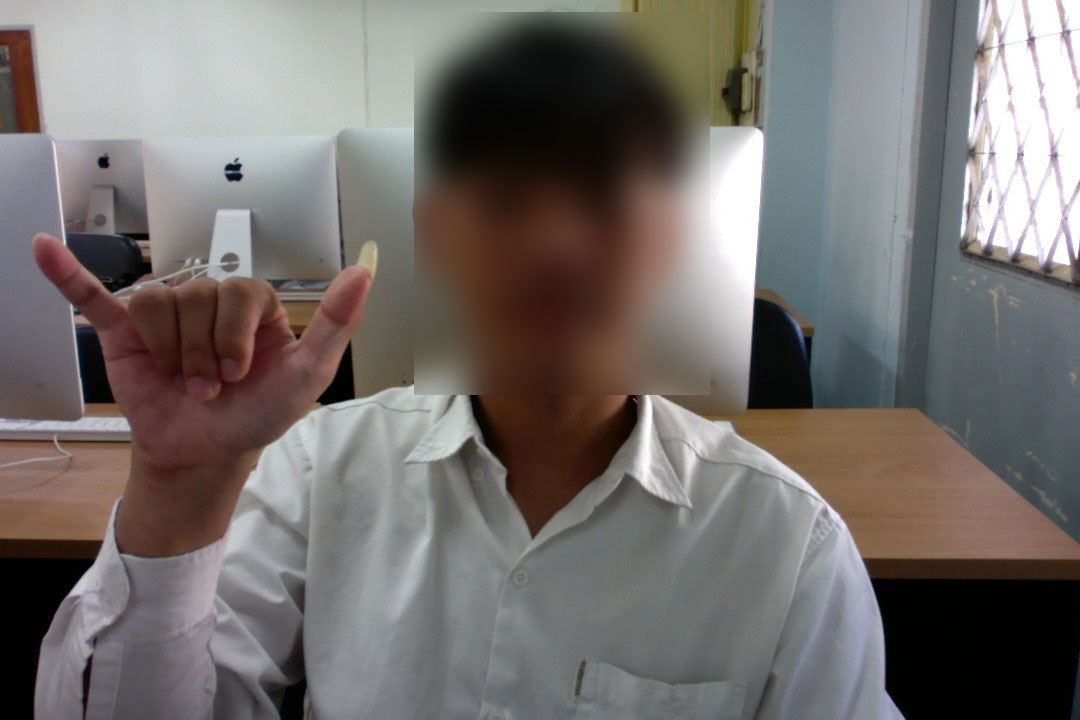yor: (16, 220, 394, 497)
